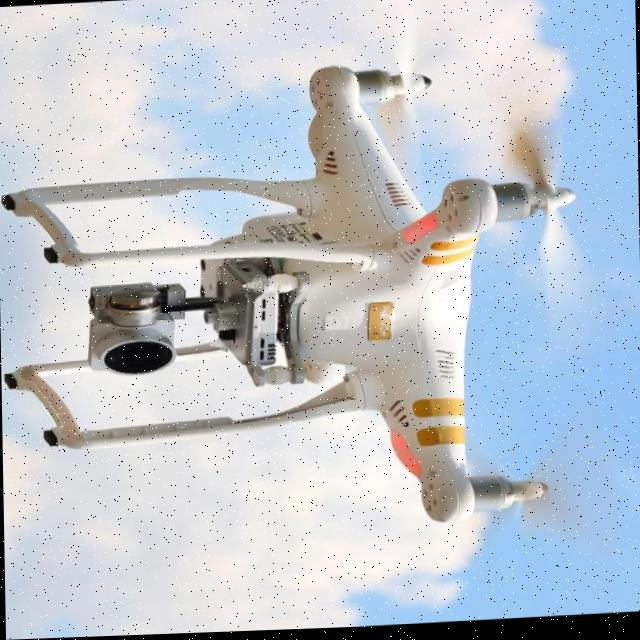drones: (4, 19, 612, 599)
